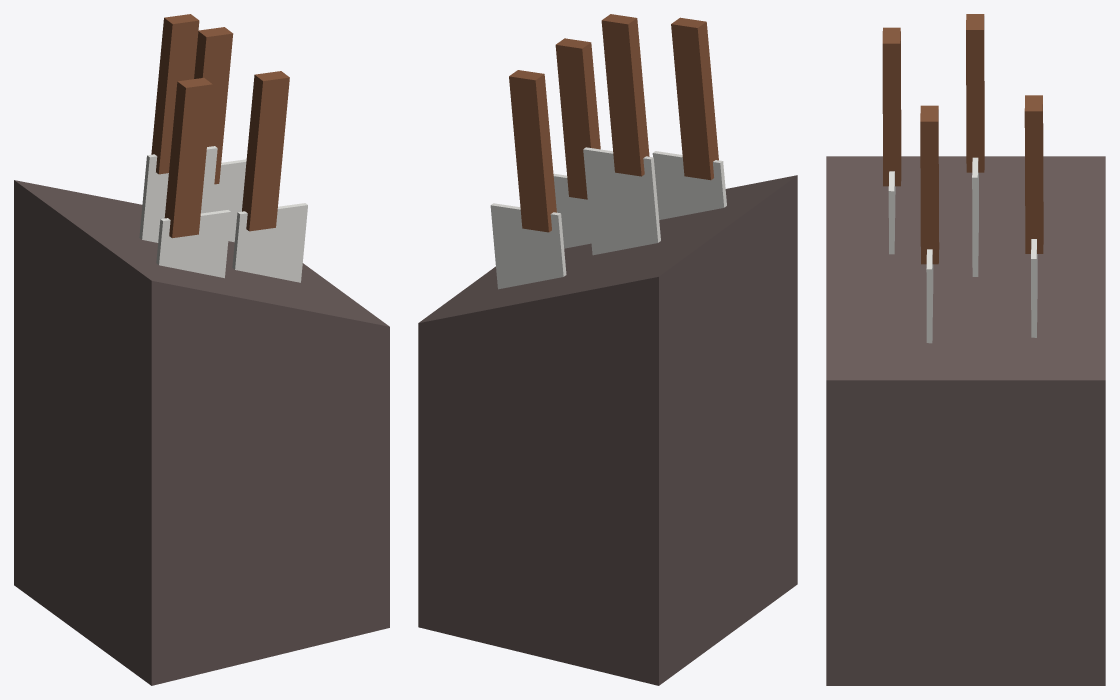
File: knifeblock.fbx
The picture shows the model from 3 angles, left to right: view 1: azimuth 30°, elevation 25°; view 2: azimuth 150°, elevation 25°; view 3: azimuth 270°, elevation 25°; orthographic projection.
Visible parts, largest first — view 1: blades; view 2: blades; view 3: blades.
Part boxes in pixels (left/top/right/bottom): blades: left=14, top=14, right=389, bottom=685; blades: left=418, top=14, right=797, bottom=685; blades: left=826, top=14, right=1105, bottom=685.
Bounding box in the file's own units: 24.54 × 24.54 × 57.99.
